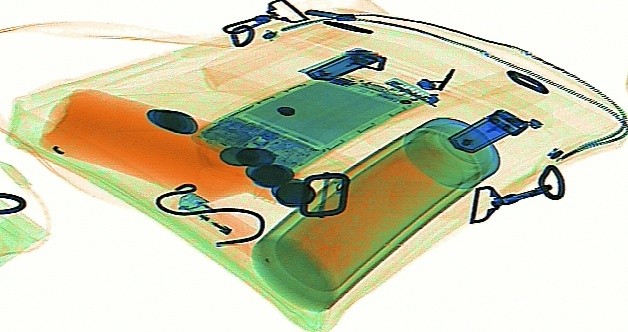lighter: (173, 190, 289, 268)
